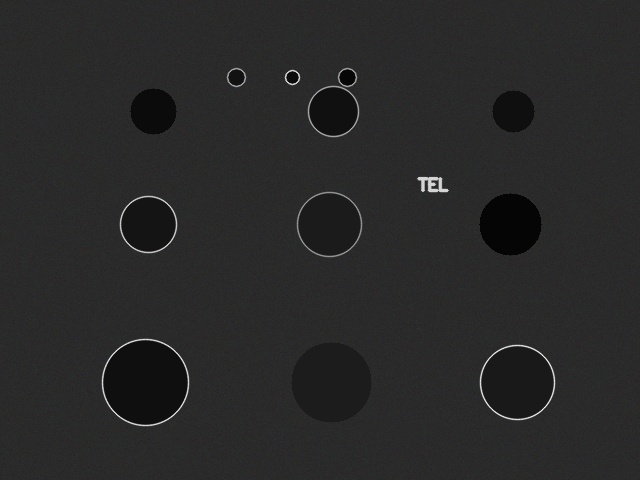hole: (102, 339, 188, 425), (291, 342, 371, 422), (480, 345, 554, 419), (297, 192, 361, 256), (479, 193, 541, 255), (120, 196, 176, 252), (308, 86, 358, 136), (130, 88, 176, 134), (492, 90, 534, 132), (227, 68, 245, 86), (338, 68, 356, 86), (285, 70, 299, 84)
